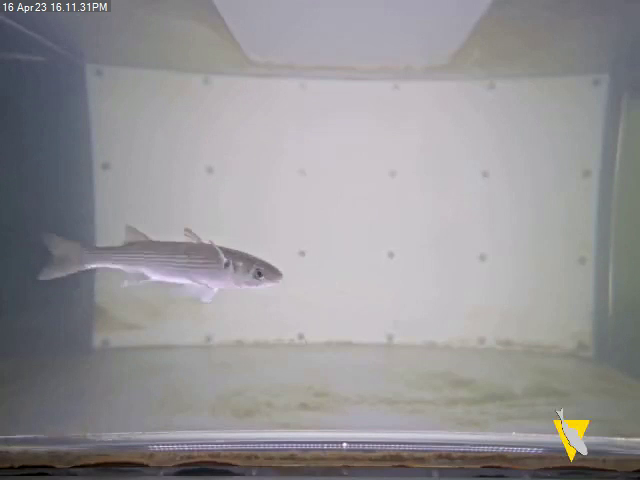\uC22D\uC5B4: (30, 216, 287, 311)
